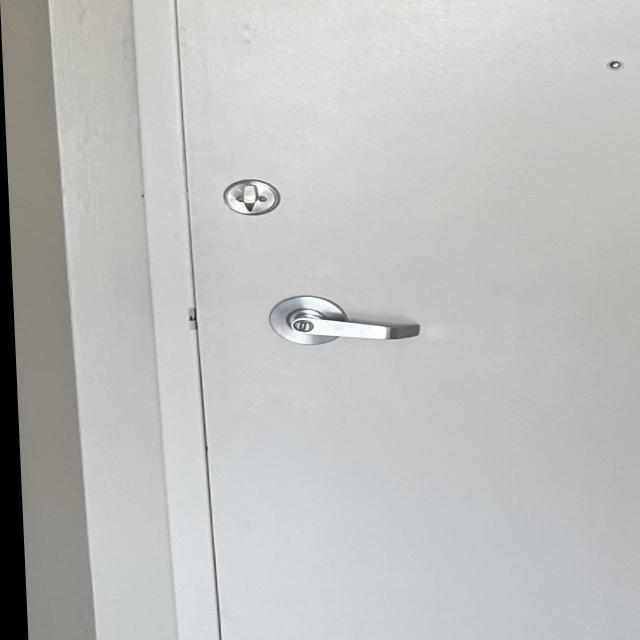door_handle: (260, 306, 444, 356)
